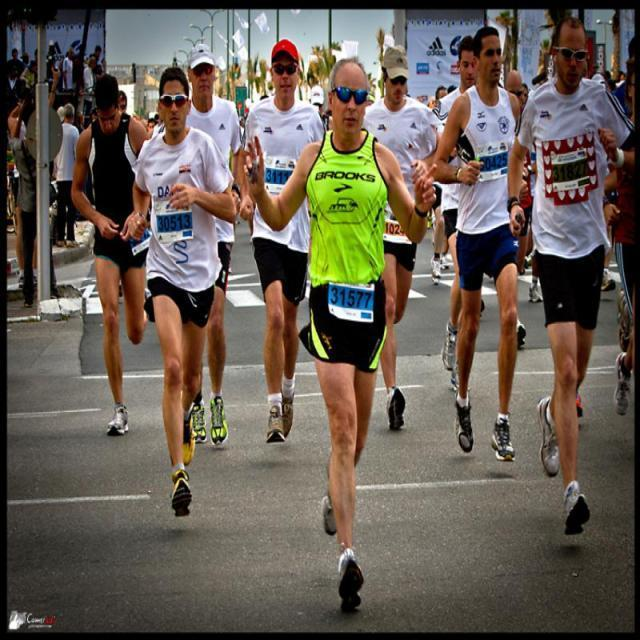dorsal: (325, 272, 380, 330), (548, 142, 598, 198), (149, 192, 200, 243), (256, 148, 300, 196), (476, 132, 515, 186)
